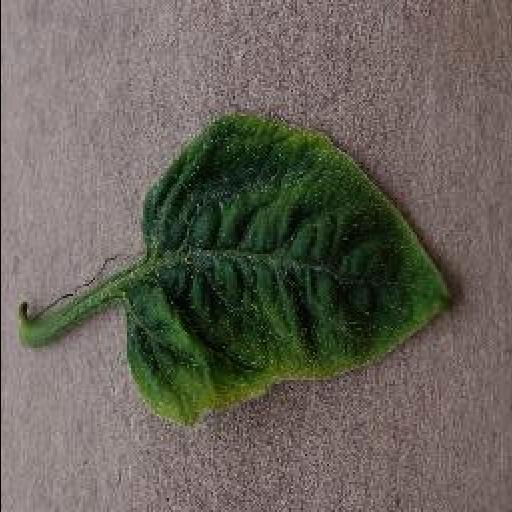disease_tomato: (118, 111, 456, 428)
